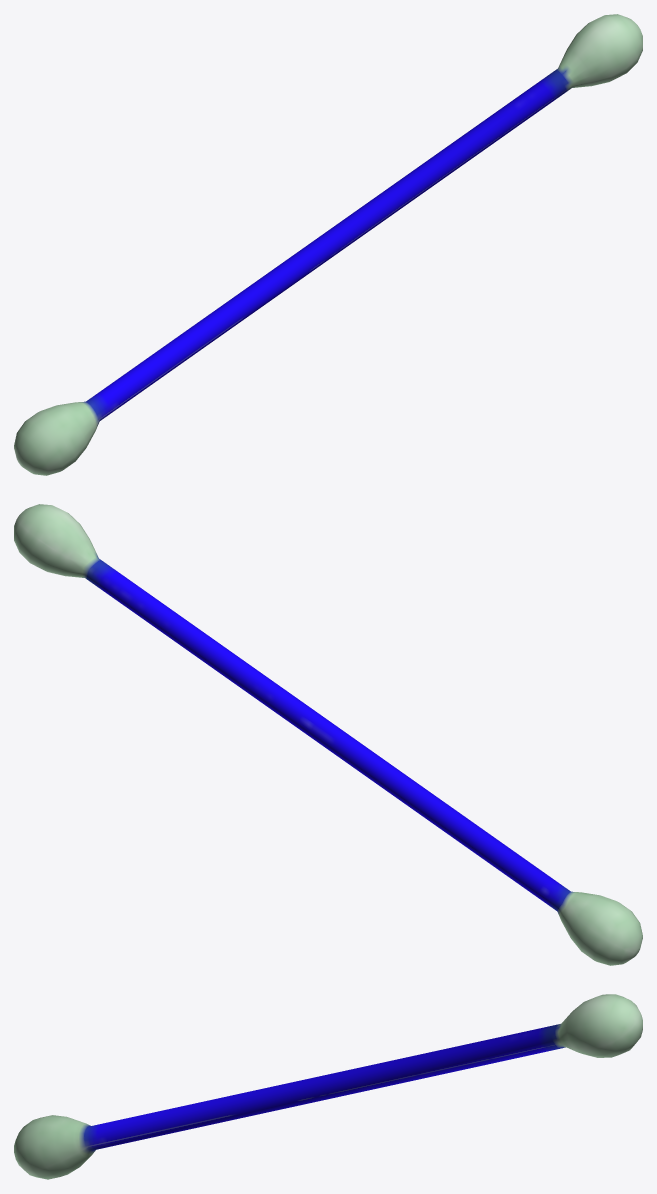
Rendered from Cotonete da placa de petri.fbx.
3 views of the same model, one above another, from view 1: azimuth 30°, elevation 25°; view 2: azimuth 150°, elevation 25°; view 3: azimuth 330°, elevation 25° (orthographic).
Visible parts, largest first — view 1: Sphere.001; view 2: Sphere.001; view 3: Sphere.001.
Boxes of the visible parts, <box> form: Sphere.001: <box>14,14,642,475</box>; Sphere.001: <box>14,504,642,965</box>; Sphere.001: <box>14,994,642,1179</box>.
Bounding box in the file's own units: 23.16 × 11.3 × 2.06.
